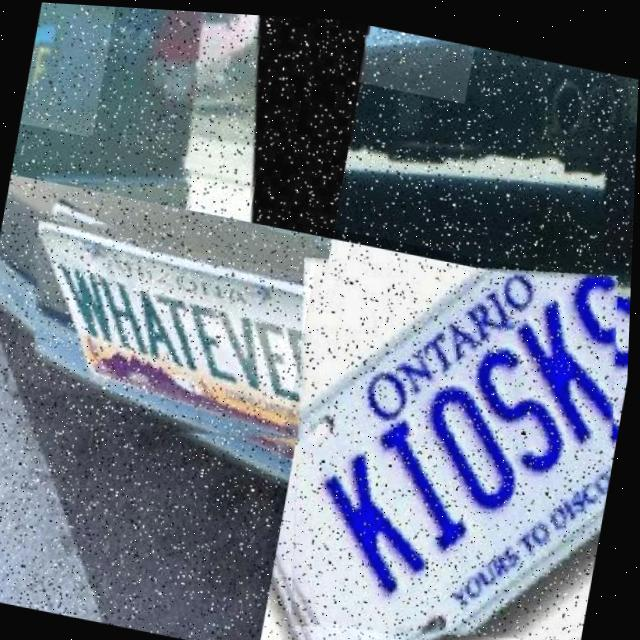LicensePlate: (256, 220, 634, 640), (41, 220, 316, 436), (20, 1, 115, 137), (358, 21, 475, 98)
